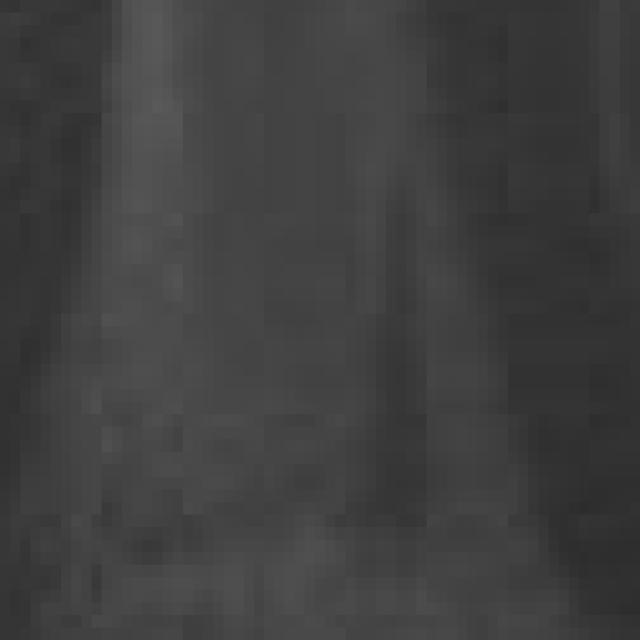fracture: (6, 3, 640, 640)
